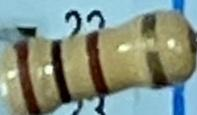Black: (47, 39, 77, 107)
Brown: (11, 39, 46, 115), (84, 30, 115, 99)
Side-Gold: (136, 10, 171, 88)
